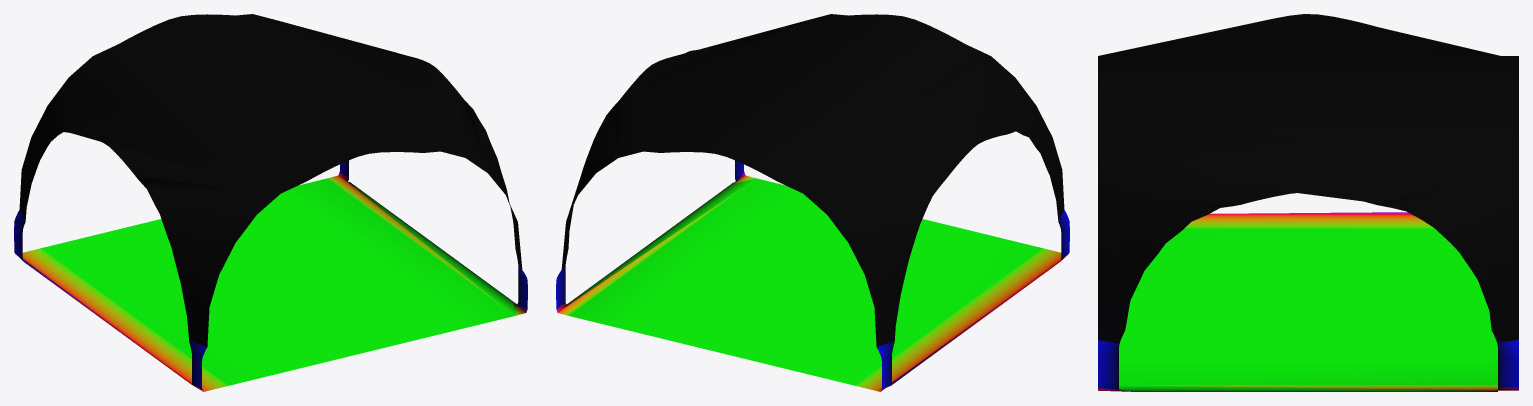
The model's file is GiantTunnelV1-Cross.fbx.
3 renders of one model, left to right at view 1: azimuth 30°, elevation 25°; view 2: azimuth 150°, elevation 25°; view 3: azimuth 270°, elevation 25°, orthographic. The views are drawn at different scales.
Visible parts, largest first — view 1: GiantTunnelV1_Cross; view 2: GiantTunnelV1_Cross; view 3: GiantTunnelV1_Cross.
Part boxes in pixels (<box>): GiantTunnelV1_Cross: <box>14,14,527,391</box>; GiantTunnelV1_Cross: <box>556,14,1069,391</box>; GiantTunnelV1_Cross: <box>1098,14,1518,391</box>.
Size of the model in its own units: 2009 by 1162 by 2000.
